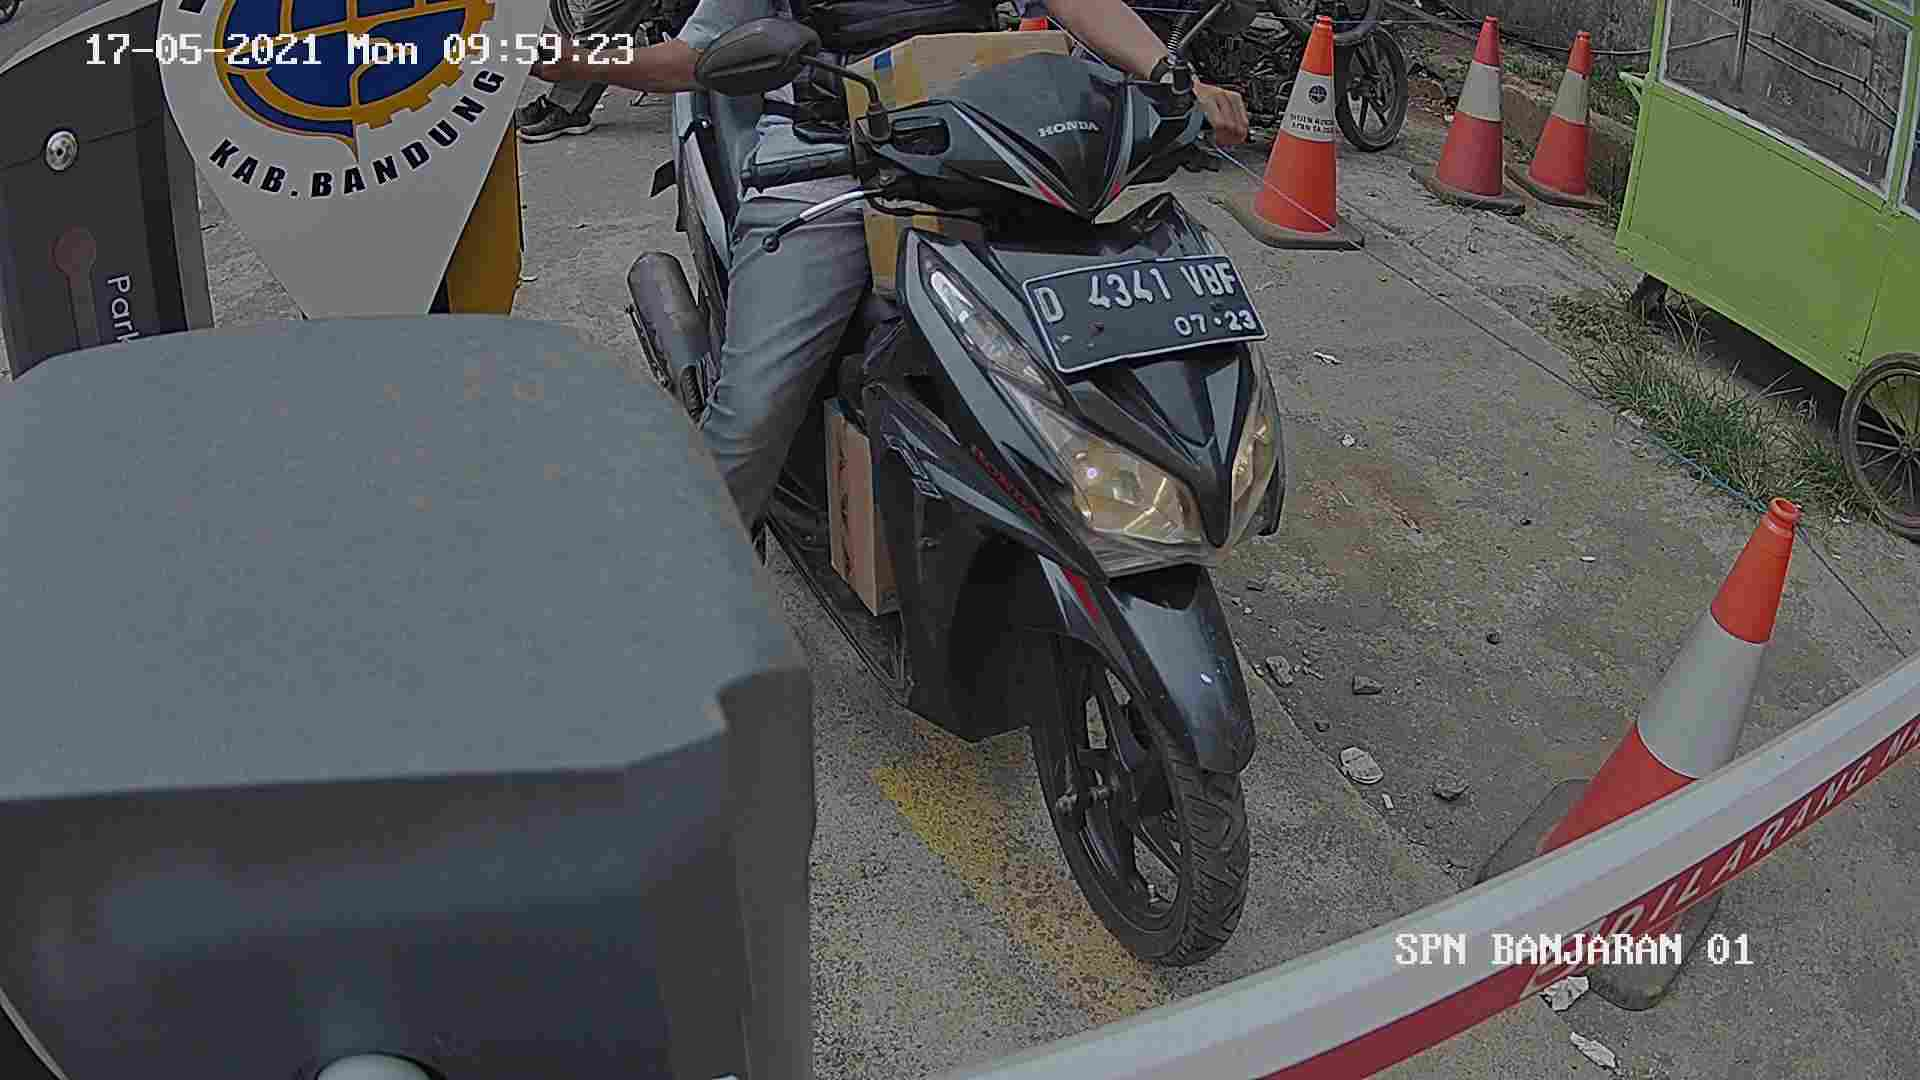motor: (641, 80, 1352, 961)
